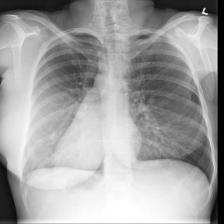normal: (23, 27, 216, 207)
